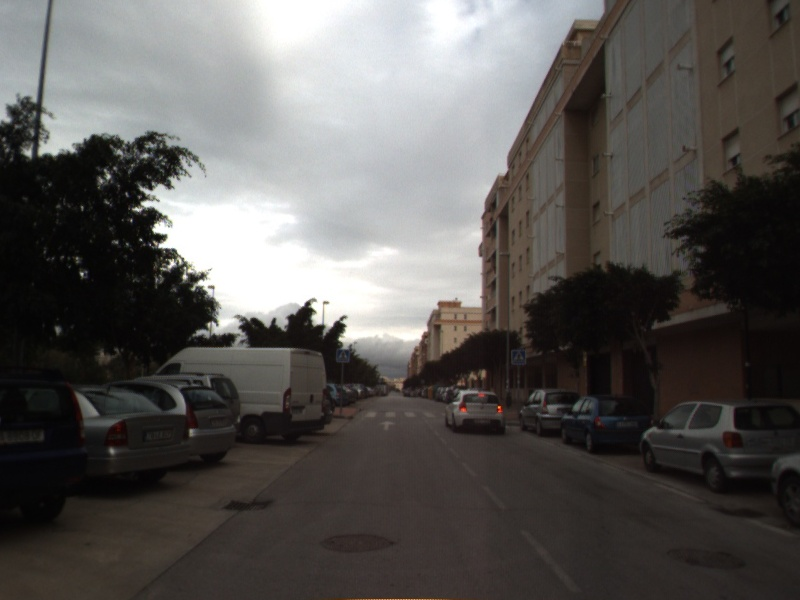STRAIGHT: (377, 418, 398, 432)
